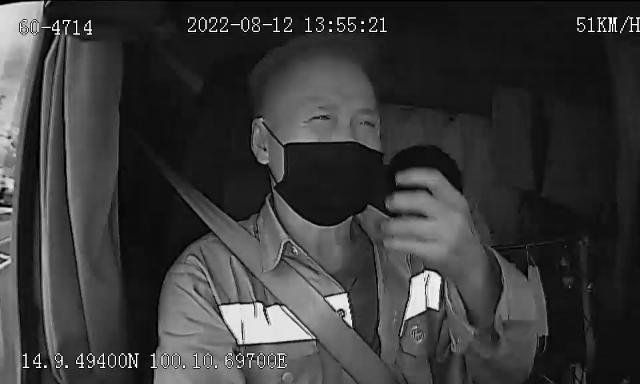SafeDriving: (300, 106, 338, 128), (350, 110, 382, 133)
Seatbelt: (145, 149, 417, 384)
